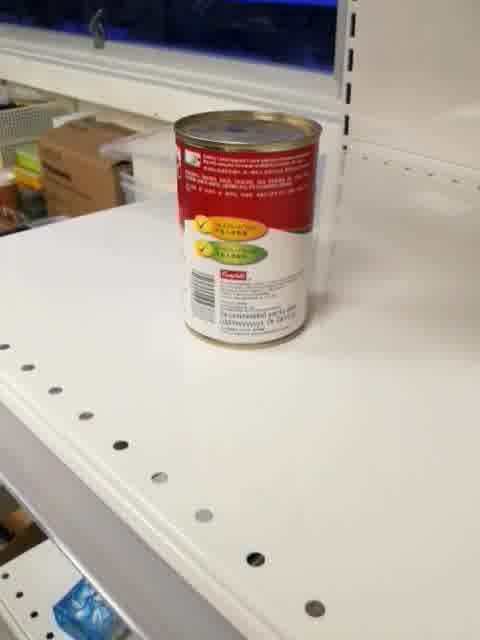tomatosoup: (169, 109, 323, 351)
